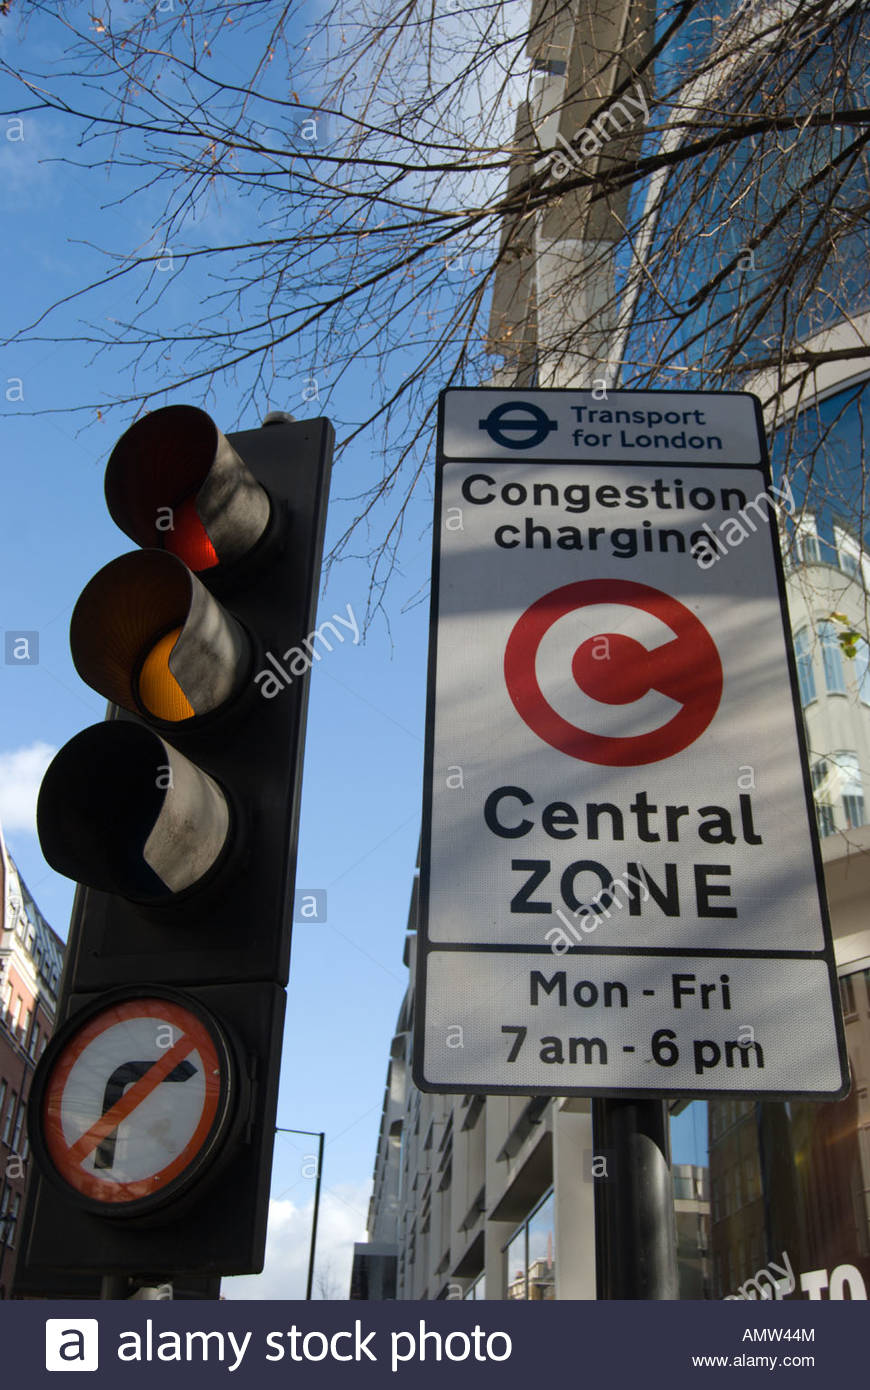No_right_turn: (40, 996, 224, 1204)
